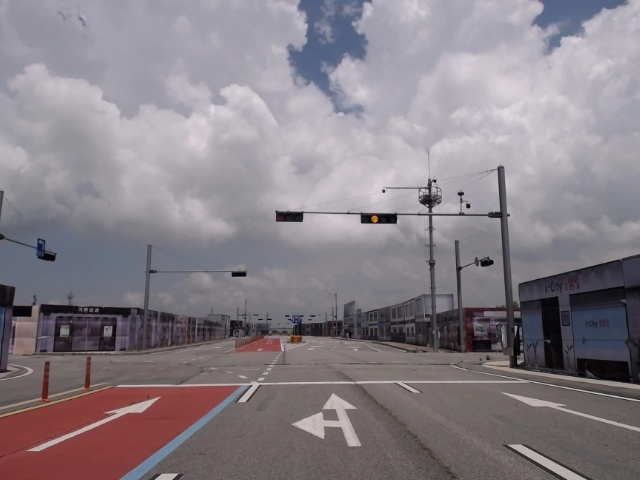orange_4: (362, 213, 398, 223)
